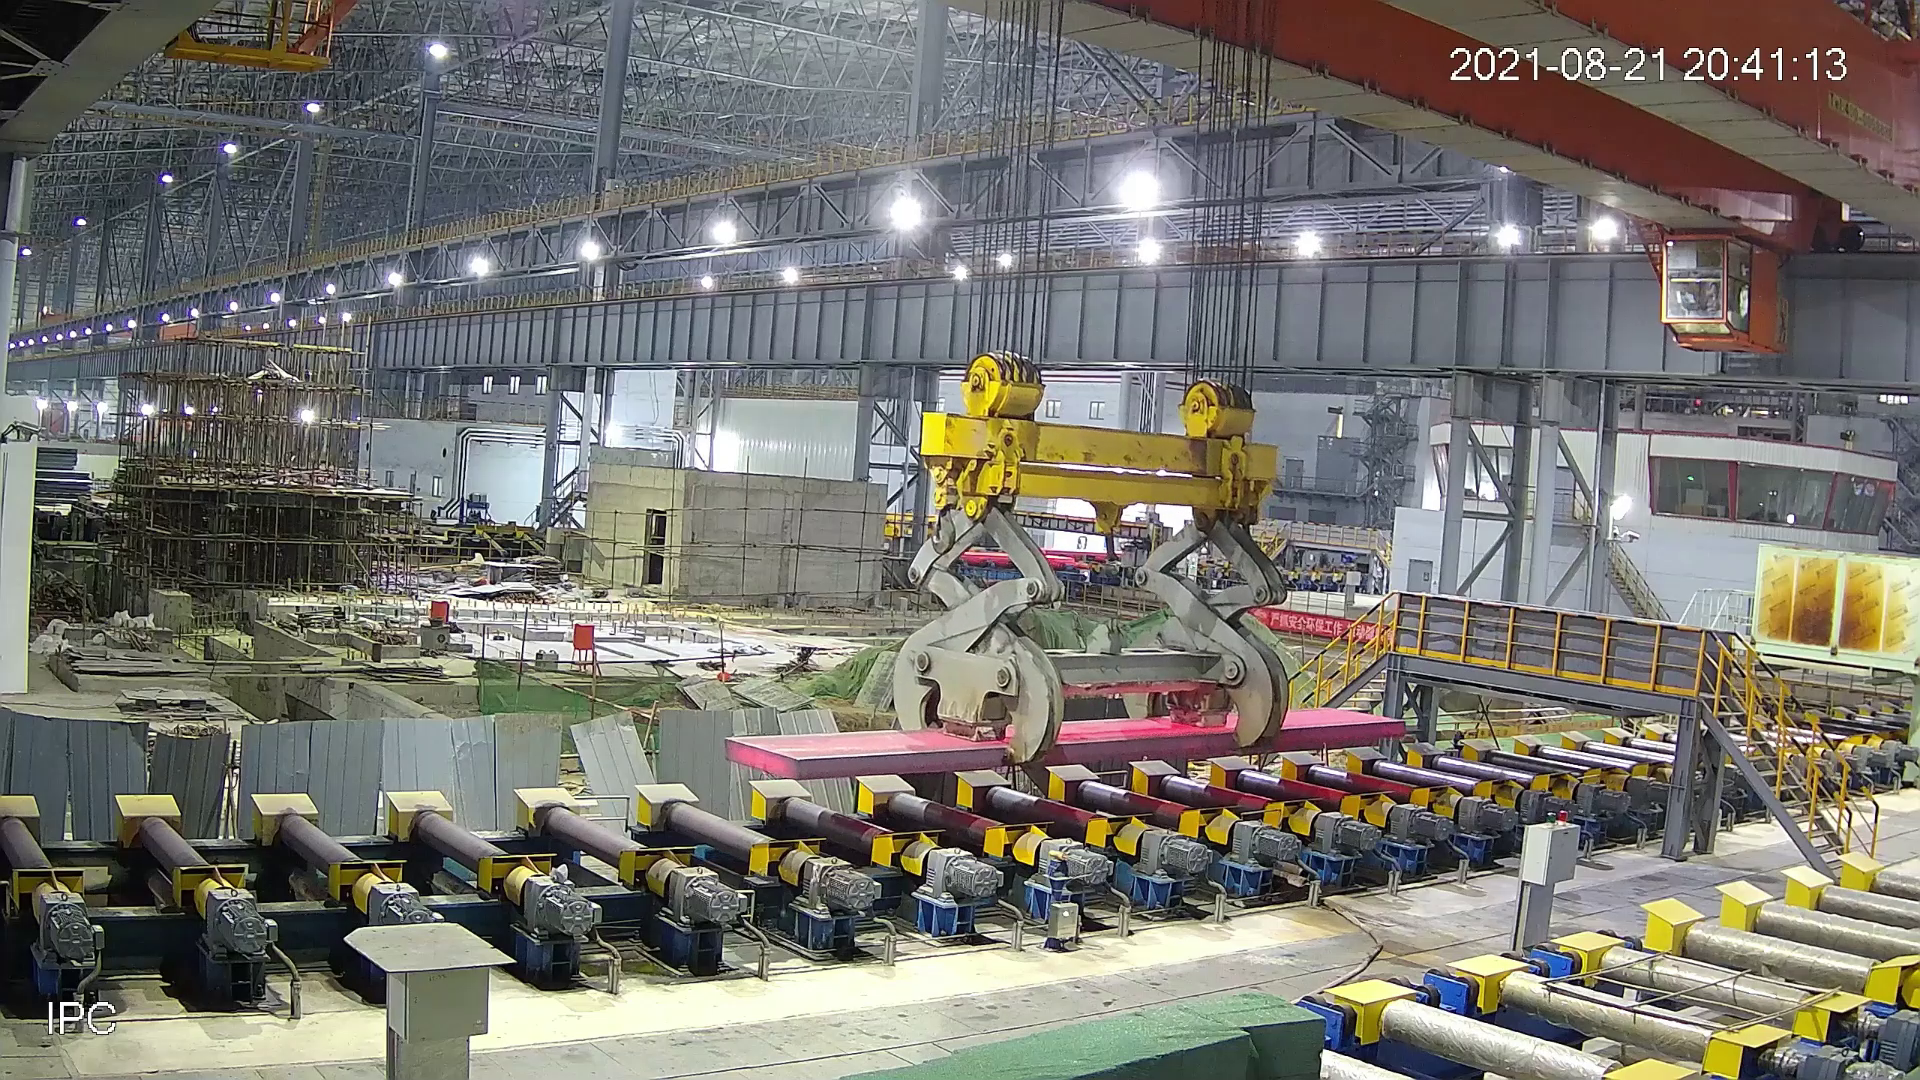craneandslab: (721, 330, 1408, 781)
